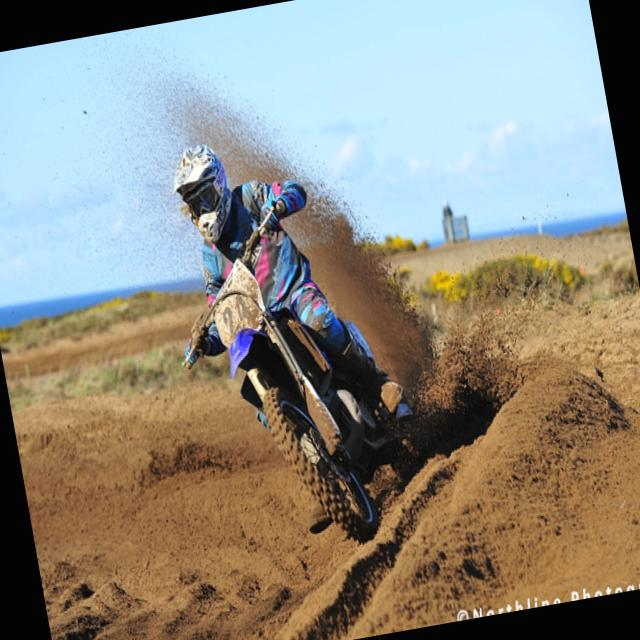Vehicle: (160, 203, 386, 564)
